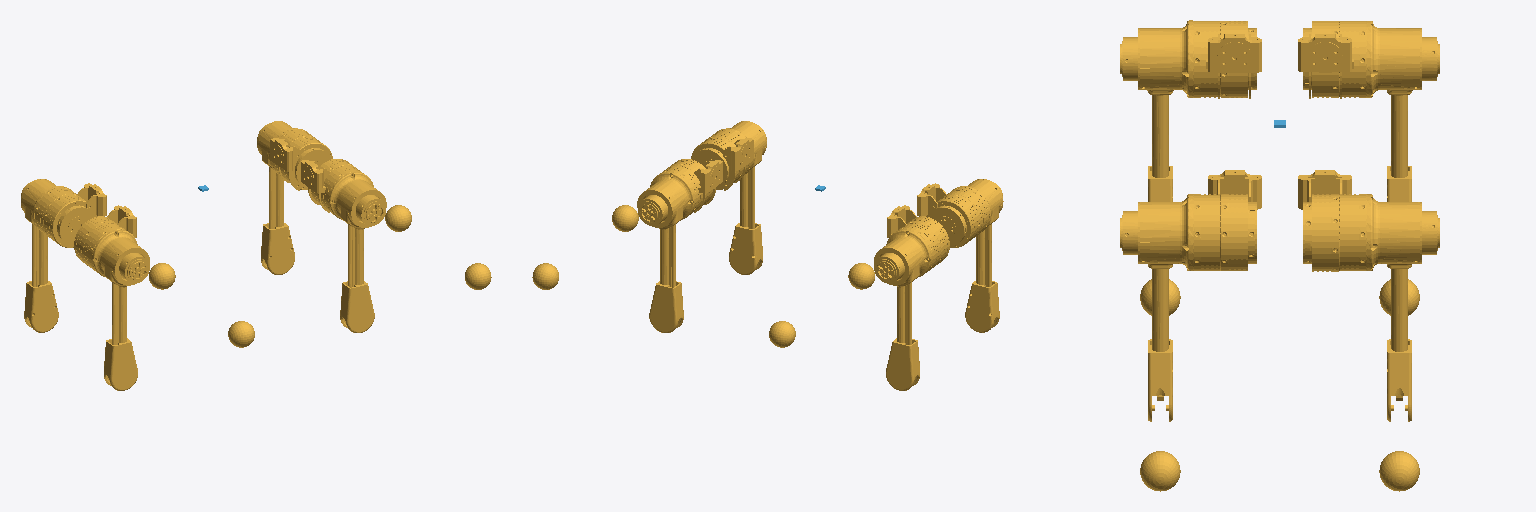
robot.urdf — robot:
<?xml version="1.0" ?>
<!-- =================================================================================== -->
<!-- |    This document was autogenerated by xacro from robot.xacro                    | -->
<!-- |    EDITING THIS FILE BY HAND IS NOT RECOMMENDED                                 | -->
<!-- =================================================================================== -->
<robot name="robot">
  <material name="black">
    <color rgba="0.0 0.0 0.0 1.0"/>
  </material>
  <material name="blue">
    <color rgba="0.0 0.0 0.8 1.0"/>
  </material>
  <material name="green">
    <color rgba="0.0 0.8 0.0 1.0"/>
  </material>
  <material name="grey">
    <color rgba="0.2 0.2 0.2 1.0"/>
  </material>
  <material name="silver">
    <color rgba="0.9137254901960784 0.9137254901960784 0.8470588235294118 1.0"/>
  </material>
  <material name="orange">
    <color rgba="1.0 0.4235294117647059 0.0392156862745098 1.0"/>
  </material>
  <material name="brown">
    <color rgba="0.8705882352941177 0.8117647058823529 0.7647058823529411 1.0"/>
  </material>
  <material name="red">
    <color rgba="0.54901960784 0.04705882353 0.0431372549  1.0"/>
  </material>
  <material name="gold">
    <color rgba="0.94901960784 0.75294117647 0.33725490196 0.0"/> 
  </material>
  <material name="white">
    <color rgba="1.0 1.0 1.0 1.0"/>
  </material>
  <link name="base">
    <visual>
      <origin rpy="0 0 0" xyz="0 0 0"/>
      <geometry>
        <mesh filename="../meshes_avago/trunk.STL" scale="1 1 1"/>
      </geometry>
      <material name="red"/>
    </visual>
    <collision>
      <origin rpy="0 0 0" xyz="0 0 0.05"/>
      <geometry>
        <box size="0.238 0.18 0.08"/>
      </geometry>
    </collision>
    <inertial>
      <origin rpy="0 0 0" xyz="-0.04348167 -0.00037175 0.00364394"/>
      <mass value="7.21"/>
      <inertia ixx="0.03723183" ixy="-0.00012705" ixz="-0.00663414" iyy="0.16560871" iyz="0.00003057" izz="0.17600247"/>
    </inertial>
  </link>
  <!-- Imu is fixed to the base link -->
  <joint name="unitree_imu_joint" type="fixed">
    <origin rpy="0. 0. 0." xyz="0. 0. 0."/>
    <parent link="base"/>
    <child link="unitree_imu"/>
  </joint>
  <!-- Imu link -->
  <link name="unitree_imu">
    <inertial>
      <mass value="0.01"/>
      <origin rpy="0 0 0" xyz="0 0 0"/>
      <inertia ixx="0.000001" ixy="0" ixz="0" iyy="0.000001" iyz="0" izz="0.000001"/>
    </inertial>
    <visual>
      <origin rpy="0 0 0" xyz="0 0 0"/>
      <geometry>
        <box size="0.015 0.015 0.004"/>
      </geometry>
    </visual>
    <material name="orange">
      <color rgba="255 108 10 255"/>
    </material>
  </link>
 <!-- FR HIP -->
  <joint name="FR_hip_joint" type="revolute">
    <origin rpy="0 0 0" xyz="0.250 -0.055 -0.03"/>
    <parent link="base"/>
    <child link="FR_hip"/>
    <axis xyz="1 0 0"/>
    <dynamics damping="0.0" friction="0.0"/>
    <limit effort="48.0" lower="-0.43" upper="0.43" velocity="65.0"/>
  </joint>
  <link name="FR_hip">
    <visual>
      <origin rpy="0 0 0" xyz="0 0 0"/>
      <!-- <origin rpy="${pi} 0 0" xyz="0 0 0"/> -->
      <geometry>
        <mesh filename="../meshes_avago/FR_hip_link.STL" scale="1 1 1"/>
      </geometry>
      <material name="gold"/>
    </visual>
    <!-- <collision> -->
      <!-- <origin rpy="1.5707963267948966 0 0" xyz="0 0 0"/> -->
      <!-- <geometry> -->
        <!-- <cylinder length="0.005" radius="0.035"/> -->
        <!-- <cylinder length="0.032" radius="0.035"/> -->
      <!-- </geometry> -->
    <!-- </collision> -->
    <inertial>
    <!-- mirror=-1,front_hind=1 -->
      <origin rpy="0 0 0" xyz="-0.0070899 -0.00055871 0.00376840"/>
      <mass value="0.89774"/>
      <inertia ixx="0.00068302" ixy="-0.00000081" ixz="0.00015171" iyy="0.00121328" iyz="-0.00000114" izz="0.00084452"/>
    </inertial>
  </link>
  <joint name="FR_thigh_joint" type="revolute">
    <!-- c -->
    <!-- <origin rpy="0 0 0" xyz="0 ${thigh_offset*mirror} 0"/> -->
    <origin rpy="0 0.0 0" xyz="0 -0.090499 0"/>
    <parent link="FR_hip"/>
    <child link="FR_thigh"/>
    <!-- <axis xyz="0 -1 0"/> -->
    <axis xyz="0 1 0"/>
    <dynamics damping="0.0" friction="0.0"/>
    <limit effort="48.0" lower="-1" upper="1.79" velocity="65.0"/>

  </joint>
  <link name="FR_thigh">
    <visual>
      <origin rpy="0 0 0" xyz="0 0 0"/>
      <geometry>
        <mesh filename="../meshes_avago/FR_thigh_link.STL" scale="1 1 1"/>
      </geometry>
      <material name="gold"/>
    </visual>
    <collision>
      <origin rpy="0 1.5707963267948966 0" xyz="0 0 -0.1"/>
      <!-- <origin rpy="0 ${pi/2.0+0.1} 0" xyz="0 0 ${-thigh_length/2.0}"/> -->
      <geometry>
        <box size="0.2 0.03 0.03"/>
      </geometry>
    </collision>
    <!-- <collision> -->
      <!-- <origin rpy="1.5707963267948966 0 0" xyz="0 0 0"/> -->
      <!-- <geometry> -->
        <!-- <cylinder length="0.015" radius="0.035"/> -->
        <!-- <cylinder length="0.035" radius="0.035"/> -->
      <!-- </geometry> -->
    <!-- </collision> -->
    <inertial>
      <origin rpy="0 0 0" xyz="-0.00390636 0.01800135 -0.02378433"/>
      <mass value="1.36914585"/>
      <inertia ixx="0.00610736" ixy="-0.00015575" ixz="-0.00032422" iyy="0.00602303" iyz="-0.00070505" izz="0.00191976"/>
    </inertial>
  </link>
  <joint name="FR_calf_joint" type="revolute">
    <!-- cc -->
    <origin rpy="0 0 0" xyz="0 0 -0.20"/>
    <parent link="FR_thigh"/>
    <child link="FR_calf"/>
    <axis xyz="0 1 0"/>
    <dynamics damping="0.0" friction="0.0"/>
    <limit effort="48.0" lower="-2.6" upper="-0.5" velocity="65.0"/>
  </joint>
  <link name="FR_calf">
    <visual>
      <origin rpy="0 0 0" xyz="0 0 0"/>
      <geometry>
        <mesh filename="../meshes_avago/FL_calf_link.STL" scale="1 1 1"/>
      </geometry>
      <material name="red"/>
    </visual>
    <collision>
      <origin rpy="0 1.5707963267948966 0" xyz="0 0 -0.12315"/>
      <geometry>
        <box size="0.2463 0.018 0.015"/>
      </geometry>
    </collision>
    <inertial>
      <origin rpy="0 0 0" xyz="0.00240943 -0.00008761 -0.14524141"/>
      <mass value="0.33297772"/>
      <inertia ixx="0.00268671" ixy="-0.00000014" ixz="0.00017624" iyy="0.00273548" iyz="-0.00000255" izz="0.00011247"/>
    </inertial>
  </link>
  <joint name="FR_foot_fixed" type="fixed" dont_collapse="true">
    <origin rpy="0 0 0" xyz="0 0 -0.2463"/>
    <parent link="FR_calf"/>
    <child link="FR_foot"/>
  </joint>
  <link name="FR_foot">
    <visual>
      <origin rpy="0 0 0" xyz="0 0 0"/>
      <geometry>
        <sphere radius="0.0247"/>
        <!-- <mesh filename="../meshes_avago/$(arg robot_type)/FL_toe_link.STL" scale="1 1 1"/> -->
      </geometry>
      <material name="gold"/>
    </visual>
    <collision>
      <origin rpy="0 0 0" xyz="0 0 0"/>
      <geometry>
        <sphere radius="0.0247"/>
      </geometry>
    </collision>
    <inertial>
      <mass value="0.0087187"/>
      <origin rpy="0 0 0" xyz="-0.0042403 0 -0.0056271"/>
      <inertia ixx="1.20e-06" ixy="0" ixz="0" iyy="1.56e-06" iyz="0" izz="1.40e-06"/>
    </inertial>
  </link>
  <!-- FL hip -->
  <joint name="FL_hip_joint" type="revolute">
    <origin rpy="0 0 0" xyz="0.250 0.055 -0.03"/>
    <parent link="base"/>
    <child link="FL_hip"/>
    <axis xyz="1 0 0"/>
    <dynamics damping="0.0" friction="0.0"/>
    <limit effort="48.0" lower="-0.43" upper="0.43" velocity="65.0"/>
  </joint>
  <link name="FL_hip">
    <visual>
      <origin rpy="0 0 0" xyz="0 0 0"/>
      <geometry>
        <mesh filename="../meshes_avago/FL_hip_link.STL" scale="1 1 1"/>
      </geometry>
      <material name="gold"/>
    </visual>
    <!-- <collision> -->
      <!-- <origin rpy="1.5707963267948966 0 0" xyz="0 0 0"/> -->
      <!-- <geometry> -->
        <!-- <cylinder length="0.005" radius="0.035"/> -->
        <!-- <cylinder length="0.032" radius="0.035"/> -->
      <!-- </geometry> -->
    <!-- </collision> -->
    <inertial>
    <!-- mirror=1,front_hind=1 -->
      <origin rpy="0 0 0" xyz="-0.0070899 0.00055871 0.00376840"/>
      <mass value="0.89774"/>
      <inertia ixx="0.00068302" ixy="0.00000081" ixz="0.00015171" iyy="0.00121328" iyz="0.00000114" izz="0.00084452"/>
    </inertial>
  </link>
  <joint name="FL_thigh_joint" type="revolute">
    <!-- c -->
    <!-- <origin rpy="0 0 0" xyz="0 ${thigh_offset*mirror} 0"/> -->
    <origin rpy="0 0.0 0" xyz="0 0.090499 0"/>
    <parent link="FL_hip"/>
    <child link="FL_thigh"/>
    <!-- <axis xyz="0 -1 0"/> -->
    <axis xyz="0 1 0"/>
    <dynamics damping="0.0" friction="0.0"/>
    <limit effort="48.0" lower="-1" upper="1.79" velocity="65.0"/>
  </joint>
  <link name="FL_thigh">
    <visual>
      <origin rpy="0 0 0" xyz="0 0 0"/>
      <geometry>
        <mesh filename="../meshes_avago/FL_thigh_link.STL" scale="1 1 1"/>
      </geometry>
      <material name="gold"/>
    </visual>
    <collision>
      <origin rpy="0 1.5707963267948966 0" xyz="0 0 -0.1"/>
      <!-- <origin rpy="0 ${pi/2.0+0.1} 0" xyz="0 0 ${-thigh_length/2.0}"/> -->
      <geometry>
        <box size="0.2 0.03 0.03"/>
      </geometry>
    </collision>
    <!-- <collision> -->
      <!-- <origin rpy="1.5707963267948966 0 0" xyz="0 0 0"/> -->
      <!-- <geometry> -->
        <!-- <cylinder length="0.035" radius="0.035"/> -->
        <!-- <cylinder length="0.015" radius="0.035"/> -->
      <!-- </geometry> -->
    <!-- </collision> -->
    <inertial>
      <origin rpy="0 0 0" xyz="-0.00390636 -0.01800135 -0.02378433"/>
      <mass value="1.36914585"/>
      <inertia ixx="0.00610736" ixy="0.00015575" ixz="-0.00032422" iyy="0.00602303" iyz="0.00070505" izz="0.00191976"/>
    </inertial>
  </link>
  <joint name="FL_calf_joint" type="revolute">
    <!-- cc -->
    <origin rpy="0 0 0" xyz="0 0 -0.2"/>
    <parent link="FL_thigh"/>
    <child link="FL_calf"/>
    <axis xyz="0 1 0"/>
    <dynamics damping="0.0" friction="0.0"/>
    <limit effort="48.0" lower="-2.6" upper="-0.5" velocity="65.0"/>
  </joint>
  <link name="FL_calf">
    <visual>
      <origin rpy="0 0 0" xyz="0 0 0"/>
      <geometry>
        <mesh filename="../meshes_avago/FL_calf_link.STL" scale="1 1 1"/>
      </geometry>
      <material name="red"/>
    </visual>
    <collision>
      <origin rpy="0 1.5707963267948966 0" xyz="0 0 -0.12315"/>
      <geometry>
        <box size="0.2463 0.018 0.015"/>
      </geometry>
    </collision>
    <inertial>
      <origin rpy="0 0 0" xyz="0.00240943 -0.00008761 -0.14524141"/>
      <mass value="0.33297772"/>
      <inertia ixx="0.00268671" ixy="-0.00000014" ixz="0.00017624" iyy="0.00273548" iyz="-0.00000255" izz="0.00011247"/>
    </inertial>
  </link>
  <joint name="FL_foot_fixed" type="fixed" dont_collapse="true">
    <origin rpy="0 0 0" xyz="0 0 -0.2463"/>
    <parent link="FL_calf"/>
    <child link="FL_foot"/>
  </joint>
  <link name="FL_foot">
    <visual>
      <origin rpy="0 0 0" xyz="0 0 0"/>
      <geometry>
        <sphere radius="0.0247"/>
        <!-- <mesh filename="../meshes_avago/$(arg robot_type)/FL_toe_link.STL" scale="1 1 1"/> -->
      </geometry>
      <material name="gold"/>
    </visual>
    <collision>
      <origin rpy="0 0 0" xyz="0 0 0"/>
      <geometry>
        <sphere radius="0.0247"/>
      </geometry>
    </collision>
    <inertial>
      <mass value="0.0087187"/>
      <origin rpy="0 0 0" xyz="-0.0042403 0 -0.0056271"/>
      <inertia ixx="1.20e-06" ixy="0" ixz="0" iyy="1.56e-06" iyz="0" izz="1.40e-06"/>
    </inertial>
  </link>

<!-- RR -->
  <joint name="RR_hip_joint" type="revolute">
    <origin rpy="0 0 0" xyz="-0.250 -0.055 -0.03"/>
    <parent link="base"/>
    <child link="RR_hip"/>
    <axis xyz="1 0 0"/>
    <dynamics damping="0.0" friction="0.0"/>
    <limit effort="48.0" lower="-0.43" upper="0.43" velocity="65.0"/>
  </joint>
  <link name="RR_hip">
    <visual>
      <origin rpy="0 0 3.141592653589793" xyz="0 0 0"/>
      <!-- <origin rpy="${pi} ${pi} 0" xyz="0 0 0"/> -->
      <geometry>
        <mesh filename="../meshes_avago/FL_hip_link.STL" scale="1 1 1"/>
      </geometry>
      <material name="gold"/>
    </visual>
    <!-- <collision> -->
      <!-- <origin rpy="1.5707963267948966 0 0" xyz="0 0 0"/> -->
      <!-- <geometry> -->
        <!-- <cylinder length="0.005" radius="0.035"/> -->
        <!-- <cylinder length="0.032" radius="0.035"/> -->
      <!-- </geometry> -->
    <!-- </collision> -->
    <inertial>
    <!-- mirror=-1,front_hind=-1 -->
      <origin rpy="0 0 0" xyz="0.0070899 -0.00055871 0.00376840"/>
      <mass value="0.89774"/>
      <inertia ixx="0.00068302" ixy="0.00000081" ixz="-0.00015171" iyy="0.00121328" iyz="-0.00000114" izz="0.00084452"/>
    </inertial>
  </link>
  <joint name="RR_thigh_joint" type="revolute">
    <!-- c -->
    <!-- <origin rpy="0 0 0" xyz="0 ${thigh_offset*mirror} 0"/> -->
    <origin rpy="0 0.0 0" xyz="0 -0.090499 0"/>
    <parent link="RR_hip"/>
    <child link="RR_thigh"/>
    <!-- <axis xyz="0 -1 0"/> -->
    <axis xyz="0 1 0"/>
    <dynamics damping="0.0" friction="0.0"/>
    <limit effort="48.0" lower="-1" upper="1.79" velocity="65.0"/>
  </joint>
  <link name="RR_thigh">
    <visual>
      <origin rpy="0 0 0" xyz="0 0 0"/>
      <geometry>
        <mesh filename="../meshes_avago/FR_thigh_link.STL" scale="1 1 1"/>
      </geometry>
      <material name="gold"/>
    </visual>
    <collision>
      <origin rpy="0 1.5707963267948966 0" xyz="0 0 -0.1"/>
      <!-- <origin rpy="0 ${pi/2.0+0.1} 0" xyz="0 0 ${-thigh_length/2.0}"/> -->
      <geometry>
        <box size="0.2 0.03 0.03"/>
      </geometry>
    </collision>
    <!-- <collision> -->
      <!-- <origin rpy="1.5707963267948966 0 0" xyz="0 0 0"/> -->
      <!-- <geometry> -->
        <!-- <cylinder length="0.015" radius="0.035"/> -->
        <!-- <cylinder length="0.035" radius="0.035"/> -->
      <!-- </geometry> -->
    <!-- </collision> -->
    <inertial>
      <origin rpy="0 0 0" xyz="-0.00390636 0.01800135 -0.02378433"/>
      <mass value="1.36914585"/>
      <inertia ixx="0.00610736" ixy="-0.00015575" ixz="-0.00032422" iyy="0.00602303" iyz="-0.00070505" izz="0.00191976"/>
    </inertial>
  </link>
  <joint name="RR_calf_joint" type="revolute">
    <!-- cc -->
    <origin rpy="0 0 0" xyz="0 0 -0.20"/>
    <parent link="RR_thigh"/>
    <child link="RR_calf"/>
    <axis xyz="0 1 0"/>
    <dynamics damping="0.0" friction="0.0"/>
    <limit effort="48.0" lower="-2.6" upper="-0.5" velocity="65.0"/>
  </joint>
  <link name="RR_calf">
    <visual>
      <origin rpy="0 0 0" xyz="0 0 0"/>
      <geometry>
        <mesh filename="../meshes_avago/FL_calf_link.STL" scale="1 1 1"/>
      </geometry>
      <material name="red"/>
    </visual>
    <collision>
      <origin rpy="0 1.5707963267948966 0" xyz="0 0 -0.12315"/>
      <geometry>
        <box size="0.2463 0.018 0.015"/>
      </geometry>
    </collision>
    <inertial>
      <origin rpy="0 0 0" xyz="0.00240943 -0.00008761 -0.14524141"/>
      <mass value="0.33297772"/>
      <inertia ixx="0.00268671" ixy="-0.00000014" ixz="0.00017624" iyy="0.00273548" iyz="-0.00000255" izz="0.00011247"/>
    </inertial>
  </link>
  <joint name="RR_foot_fixed" type="fixed" dont_collapse="true">
    <origin rpy="0 0 0" xyz="0 0 -0.2463"/>
    <parent link="RR_calf"/>
    <child link="RR_foot"/>
  </joint>
  <link name="RR_foot">
    <visual>
      <origin rpy="0 0 0" xyz="0 0 0"/>
      <geometry>
        <sphere radius="0.0247"/>
        <!-- <mesh filename="../meshes_avago/$(arg robot_type)/FL_toe_link.STL" scale="1 1 1"/> -->
      </geometry>
      <material name="gold"/>
    </visual>
    <collision>
      <origin rpy="0 0 0" xyz="0 0 0"/>
      <geometry>
        <sphere radius="0.0247"/>
      </geometry>
    </collision>
    <!-- <inertial>
                <mass value="${foot_mass}"/>
                <inertia
                        ixx="${(2*foot_mass)/5.0*(foot_radius*foot_radius)}" ixy="0.0" ixz="0.0"
                        iyy="${(2*foot_mass)/5.0*(foot_radius*foot_radius)}" iyz="0.0"
                        izz="${(2*foot_mass)/5.0*(foot_radius*foot_radius)}"/>
            </inertial> -->
    <!-- <inertial>
                <mass value="${0.0}"/>
                <inertia
                        ixx="0.0" ixy="0.0" ixz="0.0"
                        iyy="0.0" iyz="0.0"
                        izz="0.0"/>
            </inertial> -->
    <inertial>
      <mass value="0.0087187"/>
      <origin rpy="0 0 0" xyz="-0.0042403 0 -0.0056271"/>
      <inertia ixx="1.20e-06" ixy="0" ixz="0" iyy="1.56e-06" iyz="0" izz="1.40e-06"/>
    </inertial>
  </link>

<!-- RL hip-->
  <joint name="RL_hip_joint" type="revolute">
    <origin rpy="0 0 0" xyz="-0.250 0.055 -0.03"/>
    <parent link="base"/>
    <child link="RL_hip"/>
    <axis xyz="1 0 0"/>
    <dynamics damping="0.0" friction="0.0"/>
    <limit effort="48.0" lower="-0.43" upper="0.43" velocity="65.0"/>
  </joint>
  <link name="RL_hip">
    <visual>
      <origin rpy="0 0 3.141592653589793" xyz="0 0 0"/>
      <!-- <origin rpy="0 ${pi} 0" xyz="0 0 0"/> -->
      <geometry>
        <mesh filename="../meshes_avago/FR_hip_link.STL" scale="1 1 1"/>
      </geometry>
      <material name="gold"/>
    </visual>
    <!-- <collision> -->
      <!-- <origin rpy="1.5707963267948966 0 0" xyz="0 0 0"/> -->
      <!-- <geometry> -->
        <!-- <cylinder length="0.005" radius="0.035"/> -->
        <!-- <cylinder length="0.032" radius="0.035"/> -->
      <!-- </geometry> -->
    <!-- </collision> -->
    <inertial>
    <!-- mirror=1,front_hind=-1 -->
      <origin rpy="0 0 0" xyz="0.0070899 0.00055871 0.00376840"/>
      <mass value="0.89774"/>
      <inertia ixx="0.00068302" ixy="-0.00000081" ixz="-0.00015171" iyy="0.00121328" iyz="0.00000114" izz="0.00084452"/>
    </inertial>
  </link>
  <joint name="RL_thigh_joint" type="revolute">
    <!-- c -->
    <!-- <origin rpy="0 0 0" xyz="0 ${thigh_offset*mirror} 0"/> -->
    <origin rpy="0 0.0 0" xyz="0 0.090499 0"/>
    <parent link="RL_hip"/>
    <child link="RL_thigh"/>
    <!-- <axis xyz="0 -1 0"/> -->
    <axis xyz="0 1 0"/>
    <dynamics damping="0.0" friction="0.0"/>
    <limit effort="48.0" lower="-1" upper="1.79" velocity="65.0"/>
  </joint>
  <link name="RL_thigh">
    <visual>
      <origin rpy="0 0 0" xyz="0 0 0"/>
      <geometry>
        <mesh filename="../meshes_avago/FL_thigh_link.STL" scale="1 1 1"/>
      </geometry>
      <material name="gold"/>
    </visual>
    <collision>
      <origin rpy="0 1.5707963267948966 0" xyz="0 0 -0.1"/>
      <!-- <origin rpy="0 ${pi/2.0+0.1} 0" xyz="0 0 ${-thigh_length/2.0}"/> -->
      <geometry>
        <box size="0.2 0.03 0.03"/>
      </geometry>
    </collision>
    <!-- <collision> -->
      <!-- <origin rpy="1.5707963267948966 0 0" xyz="0 0 0"/> -->
      <!-- <geometry> -->
        <!-- <cylinder length="0.015" radius="0.035"/> -->
        <!-- <cylinder length="0.035" radius="0.035"/> -->
      <!-- </geometry> -->
    <!-- </collision> -->
    <inertial>
      <origin rpy="0 0 0" xyz="-0.00390636 -0.01800135 -0.02378433"/>
      <mass value="1.36914585"/>
      <inertia ixx="0.00610736" ixy="0.00015575" ixz="-0.00032422" iyy="0.00602303" iyz="0.00070505" izz="0.00191976"/>
    </inertial>
  </link>
  <joint name="RL_calf_joint" type="revolute">
    <!-- cc -->
    <origin rpy="0 0 0" xyz="0 0 -0.20"/>
    <parent link="RL_thigh"/>
    <child link="RL_calf"/>
    <axis xyz="0 1 0"/>
    <dynamics damping="0.0" friction="0.0"/>
    <limit effort="48.0" lower="-2.6" upper="-0.5" velocity="65.0"/>
  </joint>
  <link name="RL_calf">
    <visual>
      <origin rpy="0 0 0" xyz="0 0 0"/>
      <geometry>
        <mesh filename="../meshes_avago/FL_calf_link.STL" scale="1 1 1"/>
      </geometry>
      <material name="red"/>
    </visual>
    <collision>
      <origin rpy="0 1.5707963267948966 0" xyz="0 0 -0.12315"/>
      <geometry>
        <box size="0.2463 0.018 0.015"/>
      </geometry>
    </collision>
    <inertial>
      <origin rpy="0 0 0" xyz="0.00240943 -0.00008761 -0.14524141"/>
      <mass value="0.33297772"/>
      <inertia ixx="0.00268671" ixy="-0.00000014" ixz="0.00017624" iyy="0.00273548" iyz="-0.00000255" izz="0.00011247"/>
    </inertial>
  </link>
  <joint name="RL_foot_fixed" type="fixed" dont_collapse="true">
    <origin rpy="0 0 0" xyz="0 0 -0.2463"/>
    <parent link="RL_calf"/>
    <child link="RL_foot"/>
  </joint>
  <link name="RL_foot">
    <visual>
      <origin rpy="0 0 0" xyz="0 0 0"/>
      <geometry>
        <sphere radius="0.0247"/>
        <!-- <mesh filename="../meshes_avago/$(arg robot_type)/FL_toe_link.STL" scale="1 1 1"/> -->
      </geometry>
      <material name="gold"/>
    </visual>
    <collision>
      <origin rpy="0 0 0" xyz="0 0 0"/>
      <geometry>
        <sphere radius="0.0247"/>
      </geometry>
    </collision>
    <!-- <inertial>
                <mass value="${foot_mass}"/>
                <inertia
                        ixx="${(2*foot_mass)/5.0*(foot_radius*foot_radius)}" ixy="0.0" ixz="0.0"
                        iyy="${(2*foot_mass)/5.0*(foot_radius*foot_radius)}" iyz="0.0"
                        izz="${(2*foot_mass)/5.0*(foot_radius*foot_radius)}"/>
            </inertial> -->
    <!-- <inertial>
                <mass value="${0.0}"/>
                <inertia
                        ixx="0.0" ixy="0.0" ixz="0.0"
                        iyy="0.0" iyz="0.0"
                        izz="0.0"/>
            </inertial> -->
    <inertial>
      <mass value="0.0087187"/>
      <origin rpy="0 0 0" xyz="-0.0042403 0 -0.0056271"/>
      <inertia ixx="1.20e-06" ixy="0" ixz="0" iyy="1.56e-06" iyz="0" izz="1.40e-06"/>
    </inertial>
  </link>

  <!-- Robot Footprint
  <joint name="footprint_joint" type="fixed">
    <parent link="base"/>
    <child link="base_footprint"/>
    <origin rpy="0 0 0" xyz="0.0 0.0 -0.2"/>
  </joint>
  <link name="base_footprint">
    <inertial>
      <origin rpy="1.5707963267948966 0 1.5707963267948966" xyz="0 0 0"/>
      <mass value="0.001"/>
      <inertia ixx="0.0" ixy="0.0" ixz="0.0" iyy="0.0" iyz="0.0" izz="0.0"/>
    </inertial>
  </link> -->
  <!-- <xacro:lidar parent="base" xyz="-0.065 0. 0.1" rpy="0. 0. 0."/> -->
</robot>

--- Render facts (derived) ---
Views: 3 orthographic renders of the robot side by side, from view 1: azimuth 30°, elevation 25°; view 2: azimuth 150°, elevation 25°; view 3: azimuth 270°, elevation 25°.
Robot: robot — 18 links, 17 joints (12 revolute, 5 fixed); root link base; default pose: all joints at 0 but 4 set to mid-range because 0 is outside their limits (FR_calf_joint = -1.55, FL_calf_joint = -1.55, RR_calf_joint = -1.55, RL_calf_joint = -1.55).
Visible links, largest first — view 1: RR_thigh, FR_thigh, RL_thigh, FL_thigh, RL_hip, FL_hip, RR_hip, FR_hip, FL_foot, RR_foot, FR_foot, RL_foot; view 2: RL_thigh, FL_thigh, RR_thigh, FR_thigh, RR_hip, FR_hip, RL_hip, FL_hip, RL_foot, FR_foot, FL_foot, RR_foot; view 3: FL_thigh, FR_thigh, RR_thigh, RL_thigh, FL_hip, FR_hip, RR_hip, RL_hip, FR_foot, FL_foot, RR_foot, RL_foot.
Link boxes in pixels (box(x1,y1,x2,y2)): RR_thigh: box(83, 223, 149, 390); FR_thigh: box(321, 165, 386, 332); RL_thigh: box(21, 179, 76, 332); FL_thigh: box(257, 121, 314, 274); RL_hip: box(44, 183, 106, 247); FL_hip: box(270, 136, 332, 190); RR_hip: box(74, 205, 136, 265); FR_hip: box(301, 159, 353, 212); FL_foot: box(385, 205, 411, 231); RR_foot: box(228, 321, 254, 347); FR_foot: box(465, 263, 491, 289); RL_foot: box(149, 263, 175, 289); RL_thigh: box(874, 223, 940, 390); FL_thigh: box(637, 165, 702, 332); RR_thigh: box(947, 179, 1003, 332); FR_thigh: box(709, 121, 766, 274); RR_hip: box(917, 183, 979, 247); FR_hip: box(691, 136, 753, 190); RL_hip: box(887, 205, 949, 264); FL_hip: box(670, 159, 722, 212); RL_foot: box(769, 321, 795, 347); FR_foot: box(612, 205, 638, 231); FL_foot: box(532, 263, 558, 289); RR_foot: box(848, 263, 874, 289); FL_thigh: box(1339, 194, 1439, 421); FR_thigh: box(1120, 194, 1220, 421); RR_thigh: box(1120, 20, 1220, 201); RL_thigh: box(1339, 21, 1439, 201); FL_hip: box(1298, 170, 1351, 271); FR_hip: box(1208, 170, 1261, 270); RR_hip: box(1206, 21, 1261, 98); RL_hip: box(1298, 21, 1353, 98); FR_foot: box(1140, 451, 1180, 491); FL_foot: box(1379, 451, 1419, 491); RR_foot: box(1140, 279, 1180, 315); RL_foot: box(1379, 279, 1419, 315).
Bounding box of the posed robot: 0.8179 × 0.3893 × 0.3108 m (x, y, z).
Meshes: 6 distinct files referenced, 8 mesh visuals loaded (4 binary STL); not drawn: 5 (reference not matched to a file when rendering).
